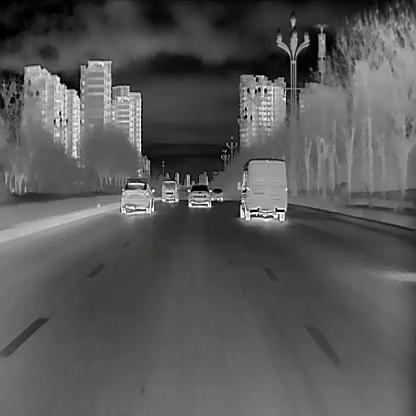car: (235, 157, 286, 220), (118, 176, 155, 212), (186, 182, 211, 207), (160, 178, 180, 201), (209, 186, 223, 201)
